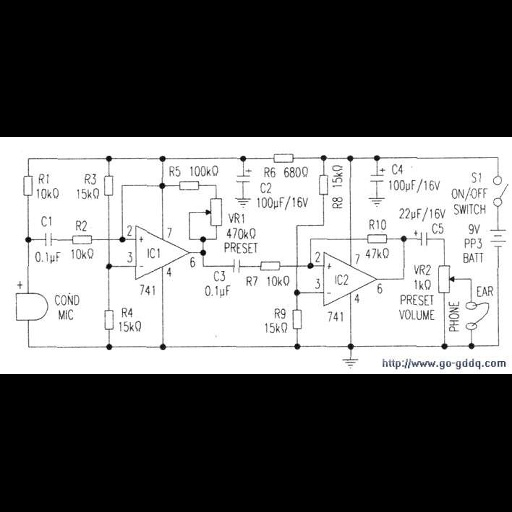amplifier: (130, 223, 189, 282), (320, 249, 378, 308)
battery: (487, 226, 508, 251)
capacitor: (228, 257, 245, 274), (41, 230, 57, 247)
firstpolarcapacitor: (413, 226, 430, 249), (367, 167, 387, 184), (234, 168, 254, 184)
firstresistance: (255, 259, 284, 273), (268, 151, 298, 164), (68, 232, 95, 246), (176, 179, 202, 193), (20, 174, 34, 199), (291, 307, 305, 332), (102, 307, 115, 333), (364, 232, 389, 245), (317, 172, 329, 199), (103, 174, 116, 198)
gnd: (339, 358, 364, 370), (233, 196, 253, 209), (364, 197, 387, 208)
